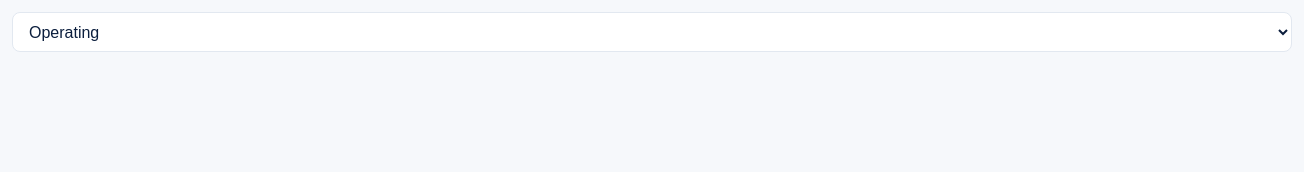
cash-flow account classification › reports a thrown classification update and refreshes the authoritative value
Select "Investing" in the dropdown at (652, 32), box [12,12,1292,52]
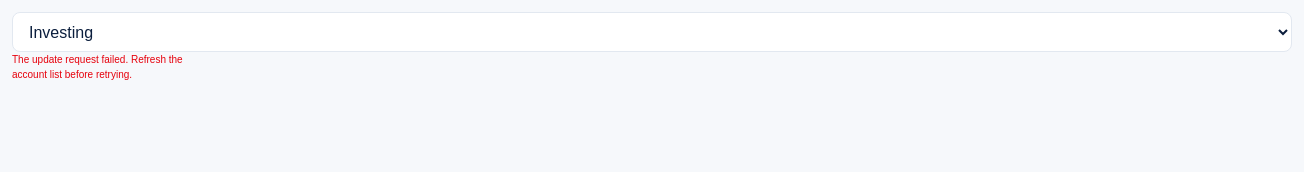
Expected: the message shows "request failed", [12,54,183,80]
